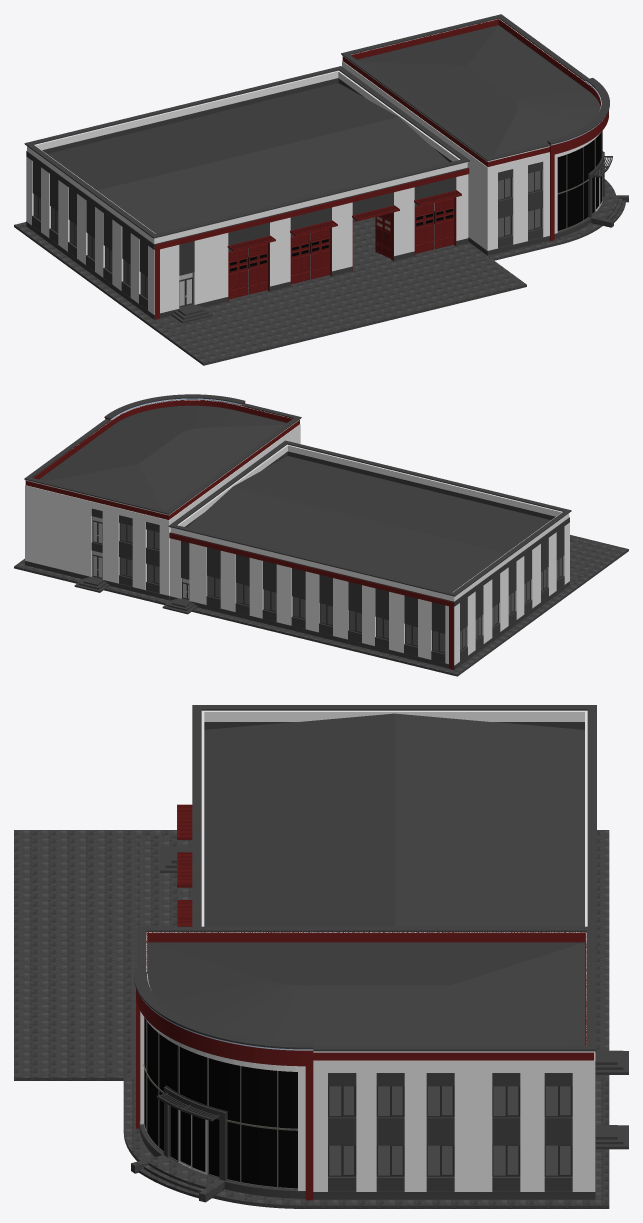
The model's file is FireStation_2.fbx.
The picture shows the model from 3 angles, top to bottom: view 1: azimuth 30°, elevation 25°; view 2: azimuth 150°, elevation 25°; view 3: azimuth 270°, elevation 25°; orthographic projection. The views are drawn at different scales.
Visible parts, largest first — view 1: FireStation00, FireStation97, FireStation59, FireStation31, FireStation57, FireStation80, FireStation100, FireStation81, FireStation41, FireStation84, FireStation42, FireStation99 (+21 smaller); view 2: FireStation00, FireStation97, FireStation31, FireStation42, FireStation80, FireStation59, FireStation18, FireStation04, FireStation100, FireStation84, FireStation81, FireStation99 (+11 smaller); view 3: FireStation00, FireStation97, FireStation59, FireStation41, FireStation04, FireStation18, FireStation84, FireStation99, FireStation58, FireStation100, FireStation80, FireStation83 (+29 smaller).
Boxes of the visible parts, left/top/right/bottom form: FireStation00: left=47, top=83, right=449, bottom=233; FireStation97: left=357, top=25, right=600, bottom=156; FireStation59: left=14, top=222, right=526, bottom=365; FireStation31: left=26, top=156, right=468, bottom=314; FireStation57: left=154, top=216, right=487, bottom=332; FireStation80: left=27, top=71, right=467, bottom=243; FireStation100: left=24, top=66, right=469, bottom=238; FireStation81: left=26, top=78, right=467, bottom=249; FireStation41: left=557, top=131, right=602, bottom=231; FireStation84: left=342, top=19, right=600, bottom=166; FireStation42: left=32, top=161, right=194, bottom=276; FireStation99: left=341, top=14, right=588, bottom=161; FireStation00: left=187, top=456, right=550, bottom=592; FireStation97: left=39, top=405, right=286, bottom=510; FireStation31: left=170, top=522, right=569, bottom=665; FireStation42: left=181, top=527, right=564, bottom=633; FireStation80: left=171, top=444, right=569, bottom=601; FireStation59: left=165, top=535, right=628, bottom=676; FireStation18: left=25, top=431, right=300, bottom=561; FireStation04: left=25, top=526, right=169, bottom=595; FireStation100: left=168, top=440, right=571, bottom=596; FireStation84: left=25, top=400, right=299, bottom=519; FireStation81: left=170, top=451, right=569, bottom=606; FireStation99: left=24, top=399, right=301, bottom=514; FireStation00: left=204, top=713, right=584, bottom=926; FireStation97: left=148, top=942, right=584, bottom=1045; FireStation59: left=14, top=830, right=609, bottom=1080; FireStation41: left=143, top=1017, right=297, bottom=1189; FireStation04: left=313, top=1132, right=595, bottom=1191; FireStation18: left=313, top=1073, right=595, bottom=1132; FireStation84: left=146, top=932, right=594, bottom=1060; FireStation99: left=137, top=926, right=596, bottom=1051; FireStation58: left=123, top=1077, right=609, bottom=1208; FireStation100: left=192, top=705, right=596, bottom=949; FireStation80: left=201, top=710, right=587, bottom=926; FireStation83: left=136, top=988, right=313, bottom=1200.
Size of the model in its own units: 4738 by 923 by 3278.
